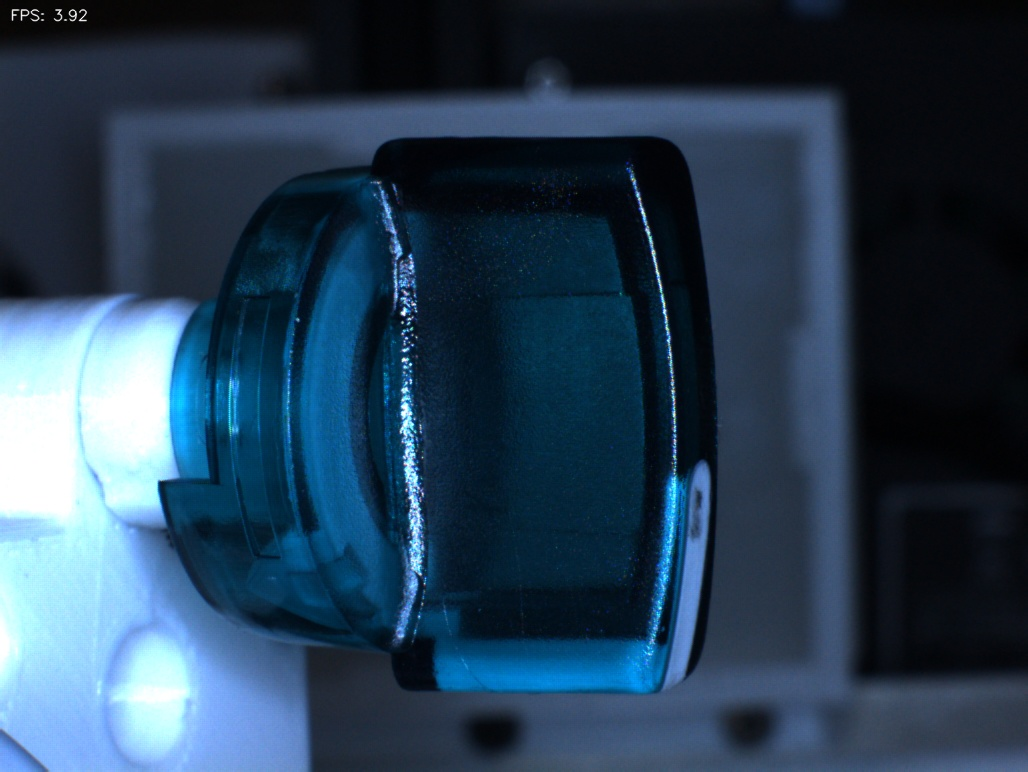PointNoir: (661, 458, 739, 564)
